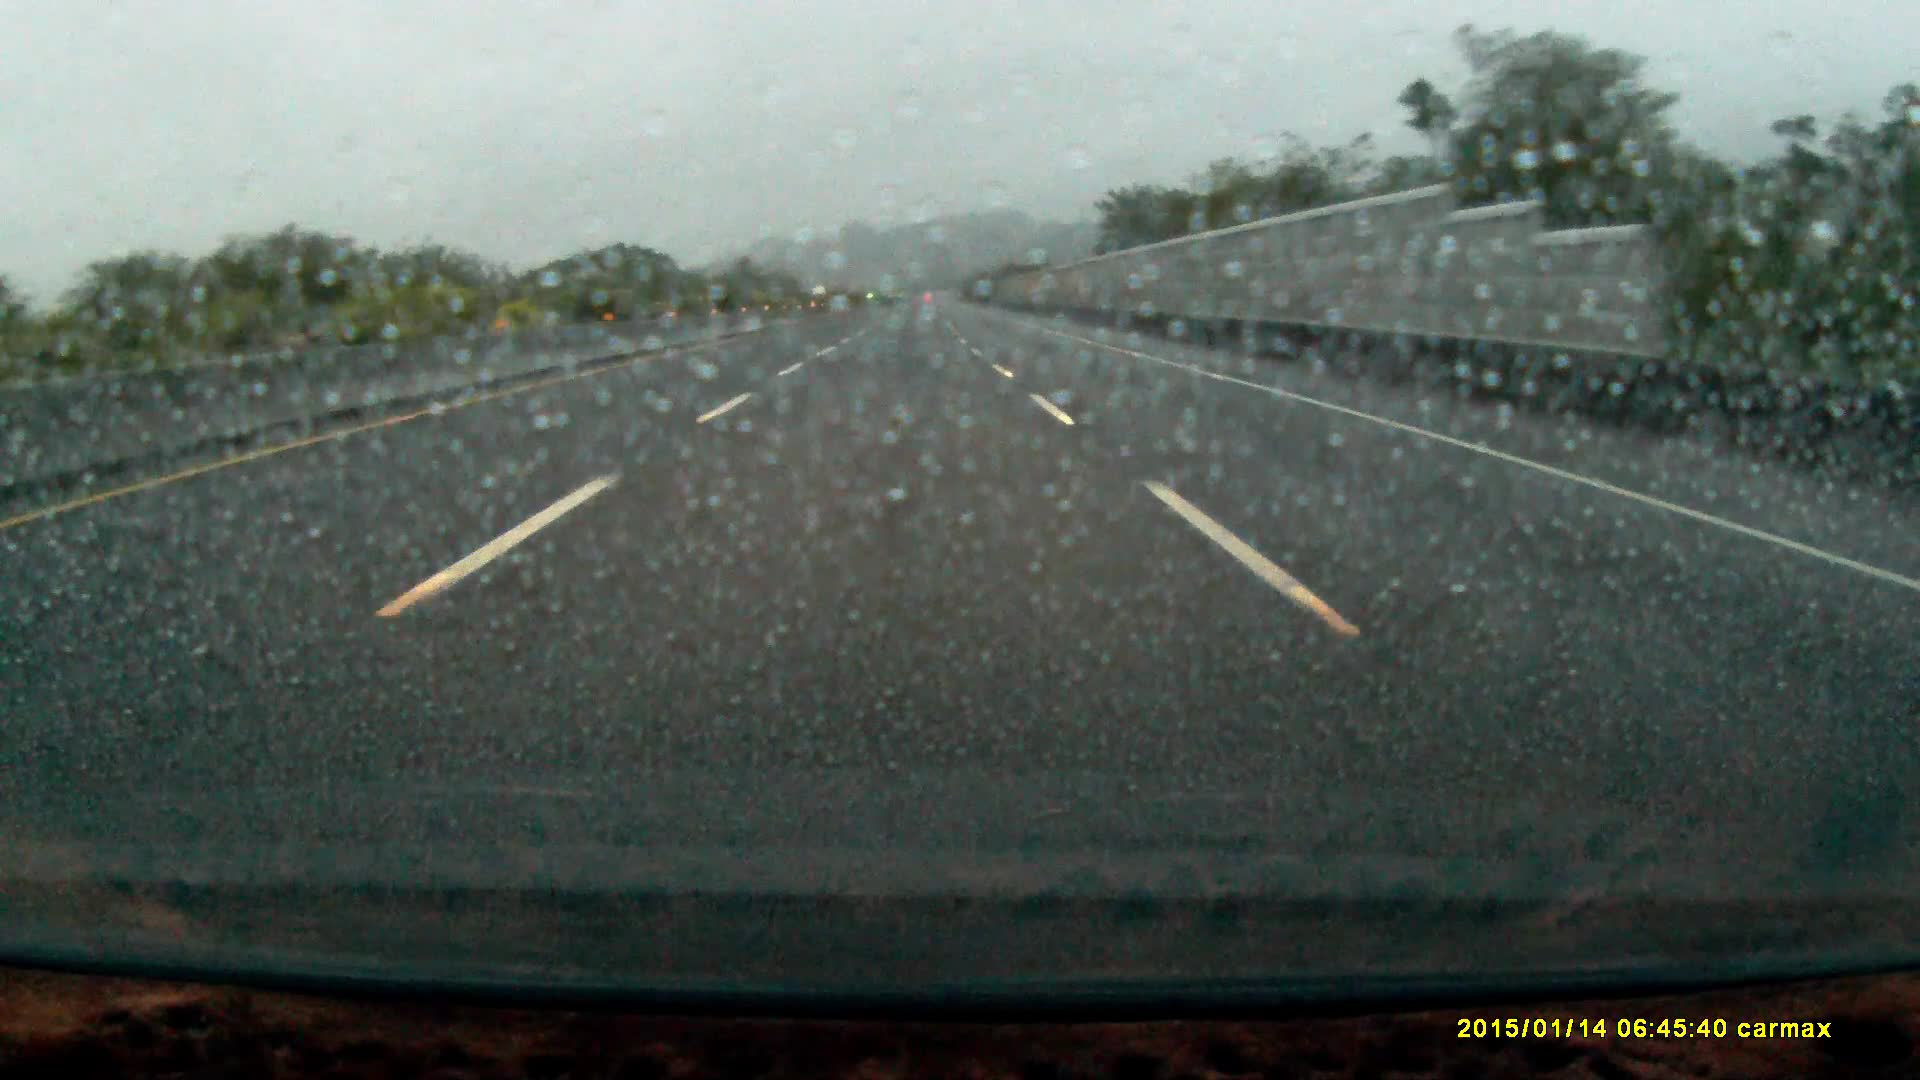vehicle: (811, 287, 831, 309)
